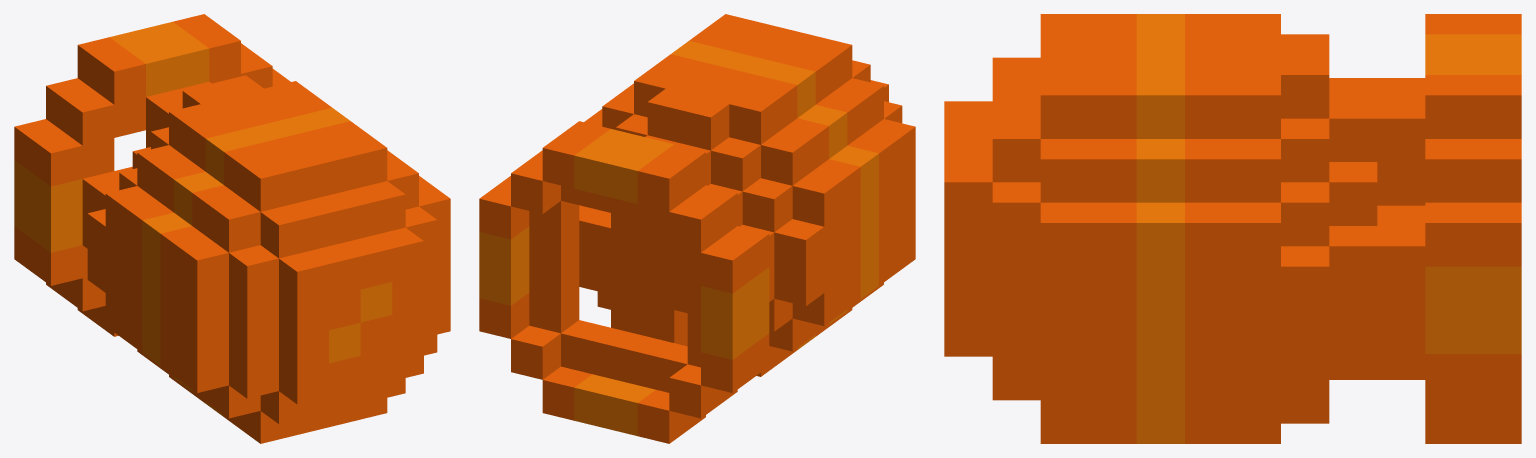
File: default_rocket.obj
The picture shows the model from 3 angles, left to right: view 1: azimuth 30°, elevation 25°; view 2: azimuth 150°, elevation 25°; view 3: azimuth 270°, elevation 25°; orthographic projection. The views are drawn at different scales.
Size of the model in its own units: 0.8 by 0.8 by 1.2.
Materials: 1 (1 with a texture image).
